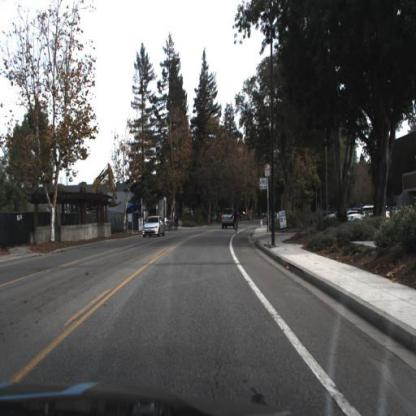biker: (232, 209, 240, 234), (214, 210, 219, 228)
car: (346, 201, 394, 224), (145, 217, 164, 239), (222, 208, 237, 231)
pedestrian: (173, 213, 179, 236), (166, 214, 172, 235)
truck: (82, 160, 121, 235)
